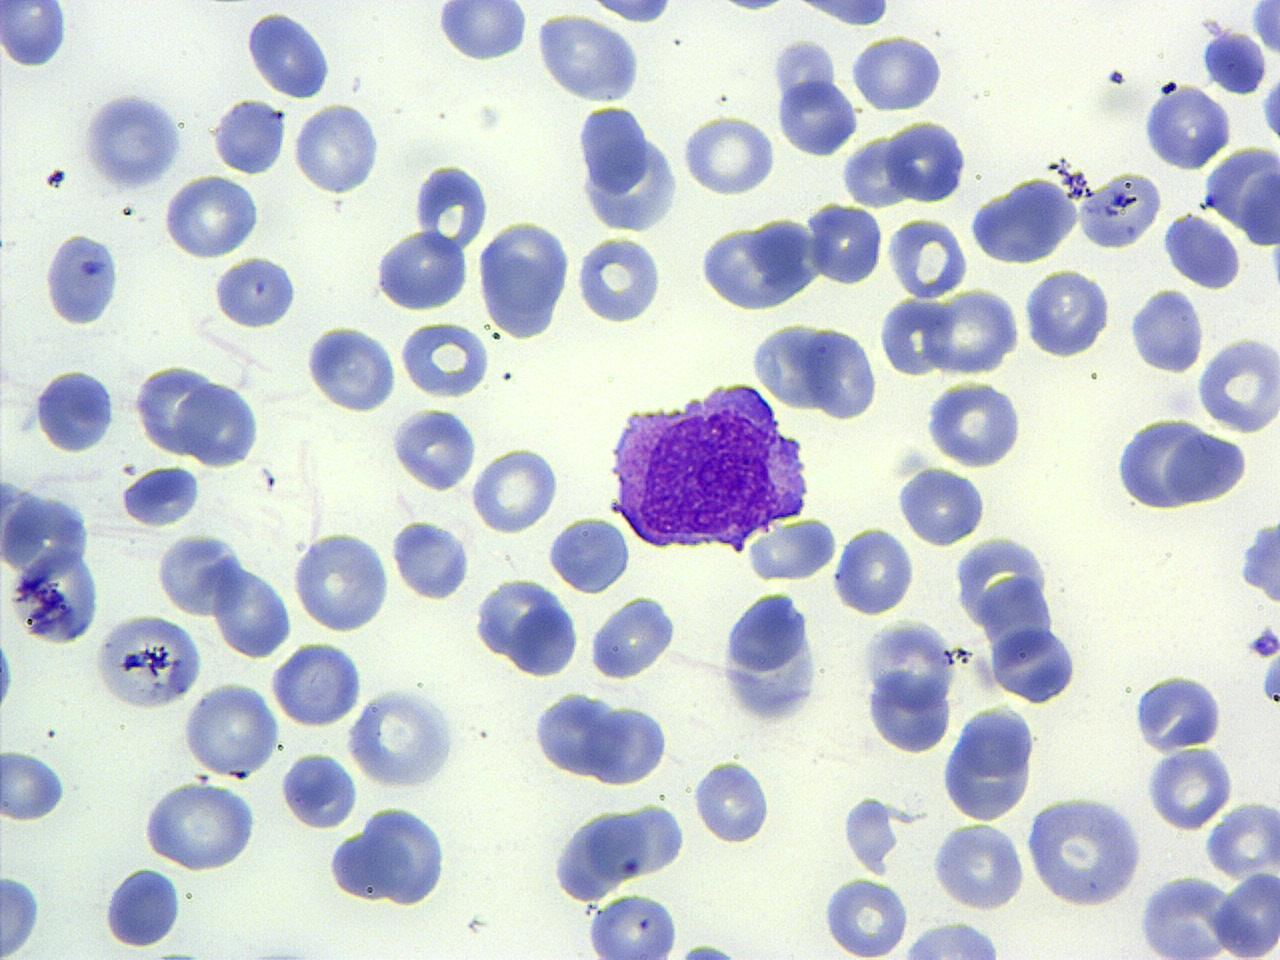Platelets: (79, 88, 182, 190), (894, 462, 986, 546), (691, 759, 772, 847), (434, 0, 528, 62), (840, 795, 902, 877), (1200, 25, 1270, 97), (0, 2, 72, 68), (0, 872, 44, 960), (240, 938, 319, 960), (1249, 2, 1279, 57), (0, 634, 16, 716), (676, 940, 738, 960), (1259, 652, 1280, 708), (1248, 626, 1280, 659), (718, 0, 788, 15), (149, 944, 204, 960), (44, 167, 69, 190), (259, 464, 277, 488), (1107, 67, 1125, 86), (1161, 81, 1179, 97)
RBC: (1024, 790, 1144, 910), (345, 684, 462, 790), (141, 776, 260, 872), (290, 530, 393, 634), (534, 10, 640, 105), (181, 678, 280, 778), (923, 378, 1025, 469), (929, 821, 1027, 912), (161, 172, 262, 260), (289, 101, 383, 195), (468, 444, 562, 534), (924, 287, 1020, 376), (244, 6, 333, 101), (372, 227, 470, 313), (269, 640, 364, 728), (1141, 82, 1233, 171), (588, 592, 676, 684), (1197, 334, 1277, 435), (680, 112, 776, 196), (530, 688, 618, 778), (818, 874, 913, 958), (1146, 743, 1234, 833), (388, 407, 479, 494), (213, 562, 292, 659), (849, 32, 946, 112), (830, 524, 916, 615), (750, 318, 830, 413), (412, 159, 492, 256), (895, 462, 987, 546), (398, 318, 492, 399), (802, 323, 881, 419), (884, 118, 972, 205), (155, 530, 242, 618), (886, 212, 970, 301), (388, 519, 474, 605), (1126, 286, 1206, 376), (1158, 430, 1250, 507), (590, 703, 670, 790), (692, 757, 771, 845), (775, 75, 858, 157), (806, 200, 884, 287), (1202, 798, 1280, 884), (584, 892, 680, 958), (878, 296, 953, 378), (743, 517, 838, 581), (1213, 868, 1280, 957), (434, 0, 528, 62), (119, 462, 202, 528), (1, 746, 69, 822), (783, 0, 895, 30), (591, 0, 674, 26)
WBC: (606, 375, 812, 556), (716, 585, 824, 725), (573, 101, 684, 234), (1023, 790, 1147, 909), (858, 616, 958, 757), (324, 801, 454, 910), (474, 215, 574, 338), (940, 700, 1040, 822), (698, 215, 823, 310), (1135, 872, 1269, 960), (91, 609, 203, 714), (141, 776, 261, 872), (348, 688, 460, 790), (471, 574, 580, 678), (81, 87, 188, 191), (969, 168, 1083, 265), (290, 528, 394, 634), (532, 10, 640, 104), (549, 804, 649, 904), (6, 548, 105, 646), (290, 97, 387, 197), (922, 378, 1026, 470), (160, 172, 266, 260), (305, 321, 402, 415), (470, 442, 563, 536), (572, 231, 665, 326), (269, 638, 366, 729), (244, 6, 336, 101), (0, 489, 97, 579), (1020, 266, 1111, 360), (375, 228, 473, 315), (1142, 83, 1234, 174), (587, 594, 679, 684), (388, 406, 480, 496), (532, 686, 619, 781), (1130, 670, 1226, 755), (154, 530, 245, 618), (833, 522, 918, 614), (173, 381, 264, 467), (884, 115, 968, 207), (988, 622, 1079, 706), (398, 319, 490, 401), (413, 158, 490, 256), (44, 230, 121, 328), (902, 465, 990, 549), (1077, 168, 1165, 252), (34, 365, 117, 454), (1160, 427, 1250, 508), (389, 514, 471, 604), (586, 704, 672, 787), (1129, 286, 1207, 376), (211, 253, 300, 330), (103, 865, 184, 949), (547, 515, 633, 595), (278, 748, 360, 831), (746, 515, 842, 584), (586, 891, 680, 960), (1162, 209, 1240, 292), (210, 96, 286, 177), (434, 1, 530, 62), (120, 460, 202, 530), (0, 745, 68, 825), (840, 793, 901, 878), (890, 918, 1014, 958), (1239, 514, 1280, 612), (0, 870, 45, 958), (1258, 59, 1280, 150)
